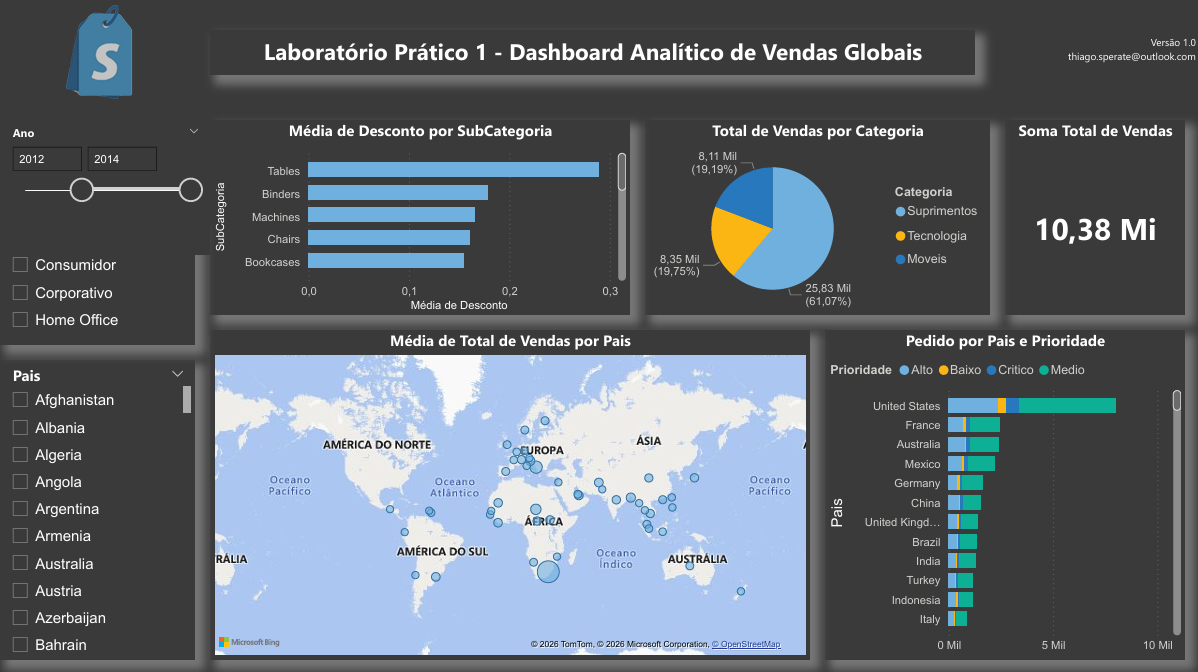

Layout of this report page (visuals, bound fields, positions):
{"tool":"powerbi","page":{"name":"Página 1","canvas":[1280,720],"ordinal":0},"visuals":[{"type":"card","title":"Soma Total de Vendas","fields":{"Values":["Sum(dataset.Total_Vendas)"]},"box":[1072,128,192,208],"z":0},{"type":"pieChart","title":"Total de Vendas por Categoria","fields":{"Category":["dataset.Categoria"],"Y":["CountNonNull(dataset.ID_Pedido)"]},"box":[688,128,368,208],"z":1000},{"type":"barChart","title":"Pedido por Pais e Prioridade","fields":{"Category":["dataset.Pais"],"Y":["CountNonNull(dataset.ID_Pedido)"],"Series":["dataset.Prioridade"]},"box":[880,352,384,352],"z":2000},{"type":"clusteredBarChart","fields":{"Category":["dataset.SubCategoria"],"Y":["Avg(dataset.Desconto)"]},"box":[224,128,448,208],"z":3000},{"type":"map","title":"Média de Total de Vendas por Pais","fields":{"Category":["dataset.Pais"],"Size":["Avg(dataset.Total_Vendas)"]},"box":[224,352,640,352],"z":4000},{"type":"slicer","fields":{"Values":["dataset.Pais"]},"box":[0,384,208,320],"z":5000},{"type":"slicer","fields":{"Values":["dataset.Segmento"]},"box":[0,240,208,128],"z":6000},{"type":"slicer","fields":{"Values":["dataset.Data_Pedido.Variation.Hierarquia de datas.Ano"]},"box":[0,128,224,144],"z":7000},{"type":"image","box":[16,0,192,112],"z":8000},{"type":"textbox","box":[224,32,816,48],"z":9000},{"type":"textbox","box":[1120,32,160,48],"z":10000}]}

Visuals, with their boxes in screenshot pixels (x1, y1, x2, y2), scaled from the page's 1280x720 canvas onto the 1198x672 screenshot:
"Soma Total de Vendas" card: <bbox>1003, 119, 1183, 314</bbox>
"Total de Vendas por Categoria" pieChart: <bbox>644, 119, 988, 314</bbox>
"Pedido por Pais e Prioridade" barChart: <bbox>824, 329, 1183, 657</bbox>
clusteredBarChart - dataset.SubCategoria x Avg(dataset.Desconto): <bbox>210, 119, 629, 314</bbox>
"Média de Total de Vendas por Pais" map: <bbox>210, 329, 809, 657</bbox>
slicer - dataset.Pais: <bbox>0, 358, 195, 657</bbox>
slicer - dataset.Segmento: <bbox>0, 224, 195, 343</bbox>
slicer - dataset.Data_Pedido.Variation.Hierarquia de datas.Ano: <bbox>0, 119, 210, 254</bbox>
image: <bbox>15, 0, 195, 105</bbox>
textbox: <bbox>210, 30, 973, 75</bbox>
textbox: <bbox>1048, 30, 1197, 75</bbox>
